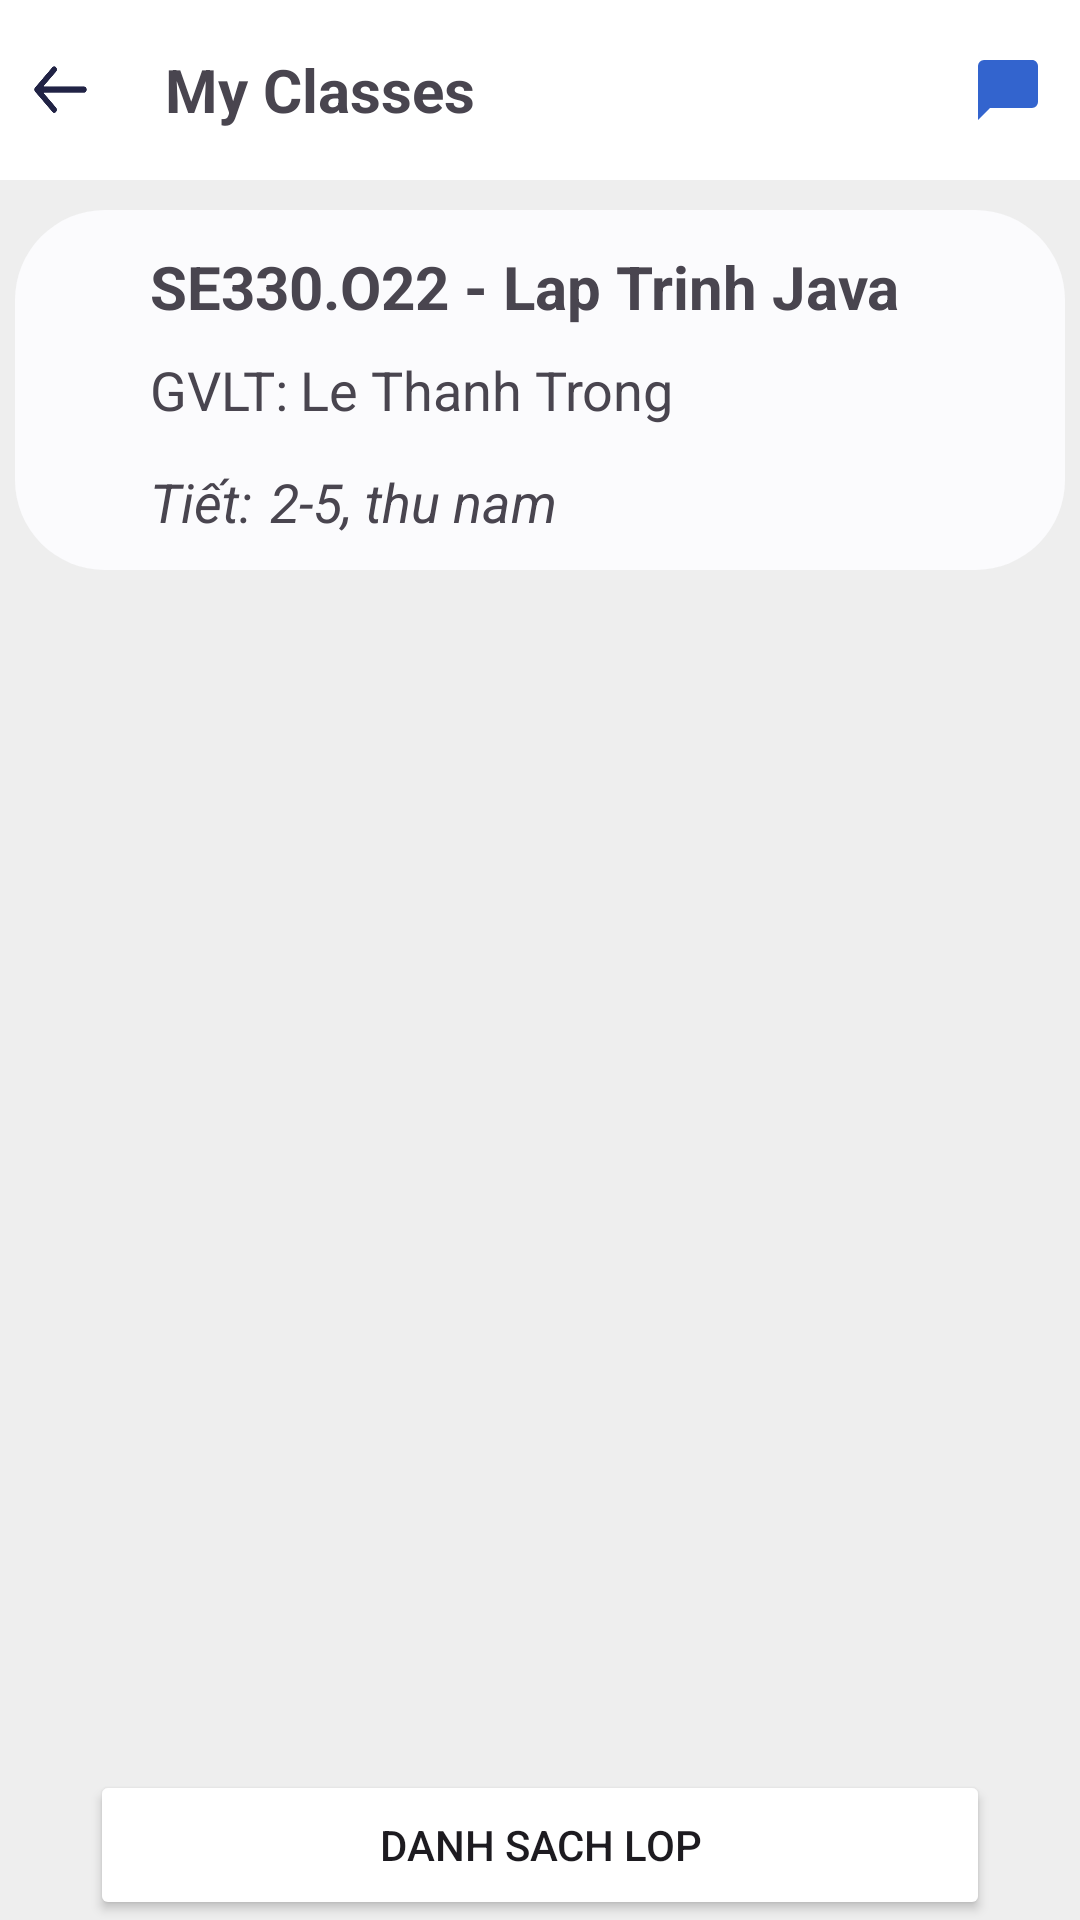

Where icons sit on this 1080px×1920px app screen, as rect(x1, y1, x2, y2):
back: rect(34, 66, 87, 113)
message: rect(978, 60, 1038, 120)
